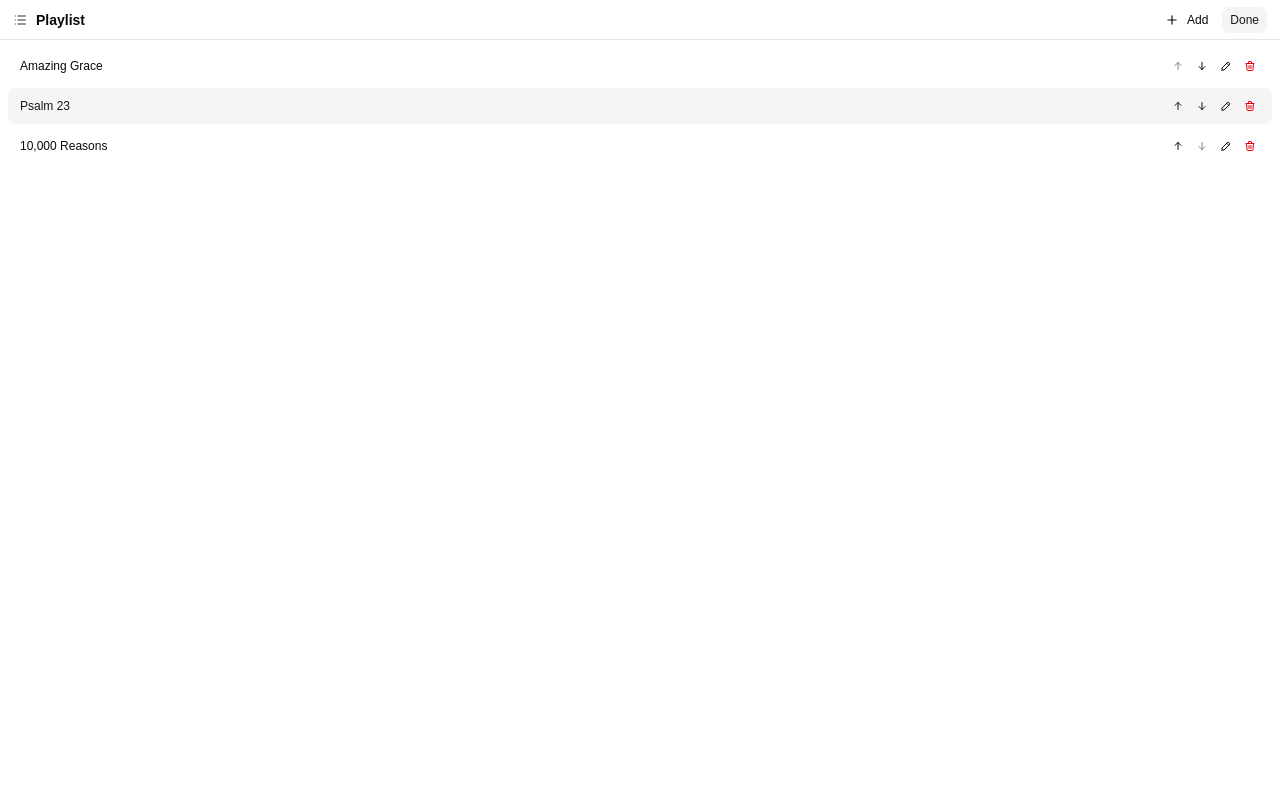
Test case: PlaylistPanel › confirms deletion via keyboard Enter on Delete button and transfers focus to neighbor row
The width and height of the screenshot is (1280, 800).
Item 2 is "Psalm 23"
Click the button named "Delete item" in the row of "Psalm 23": coordinates (1250, 106) [1240,96,1260,116]
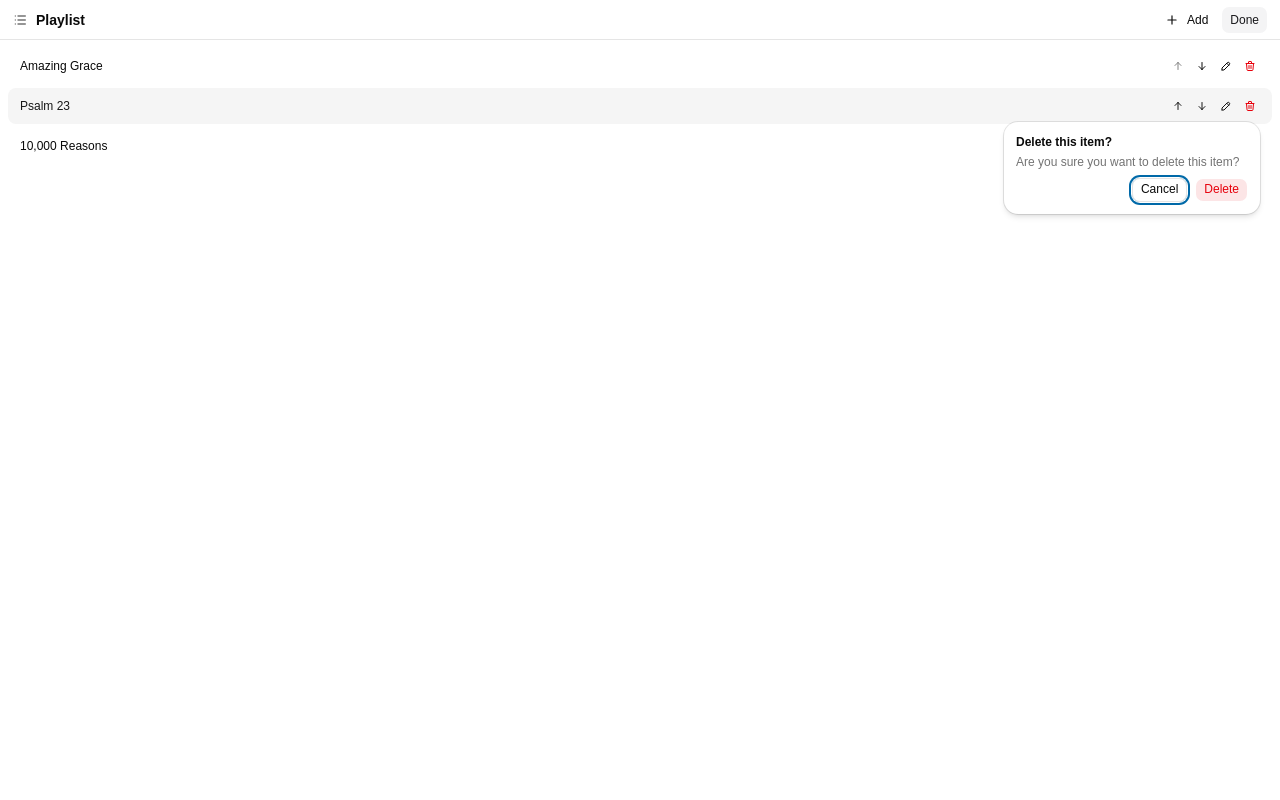
Tab to Delete button and actuate with Enter
Press Tab
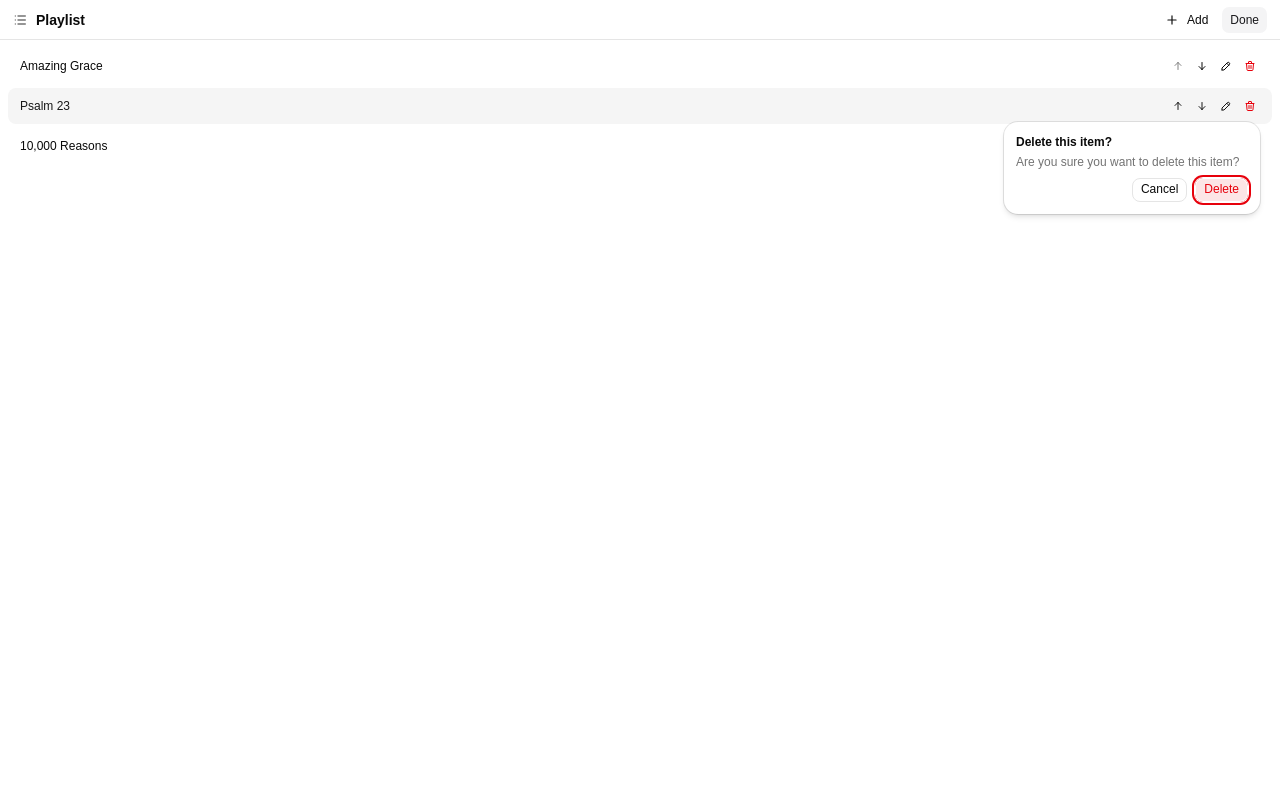
Press Enter
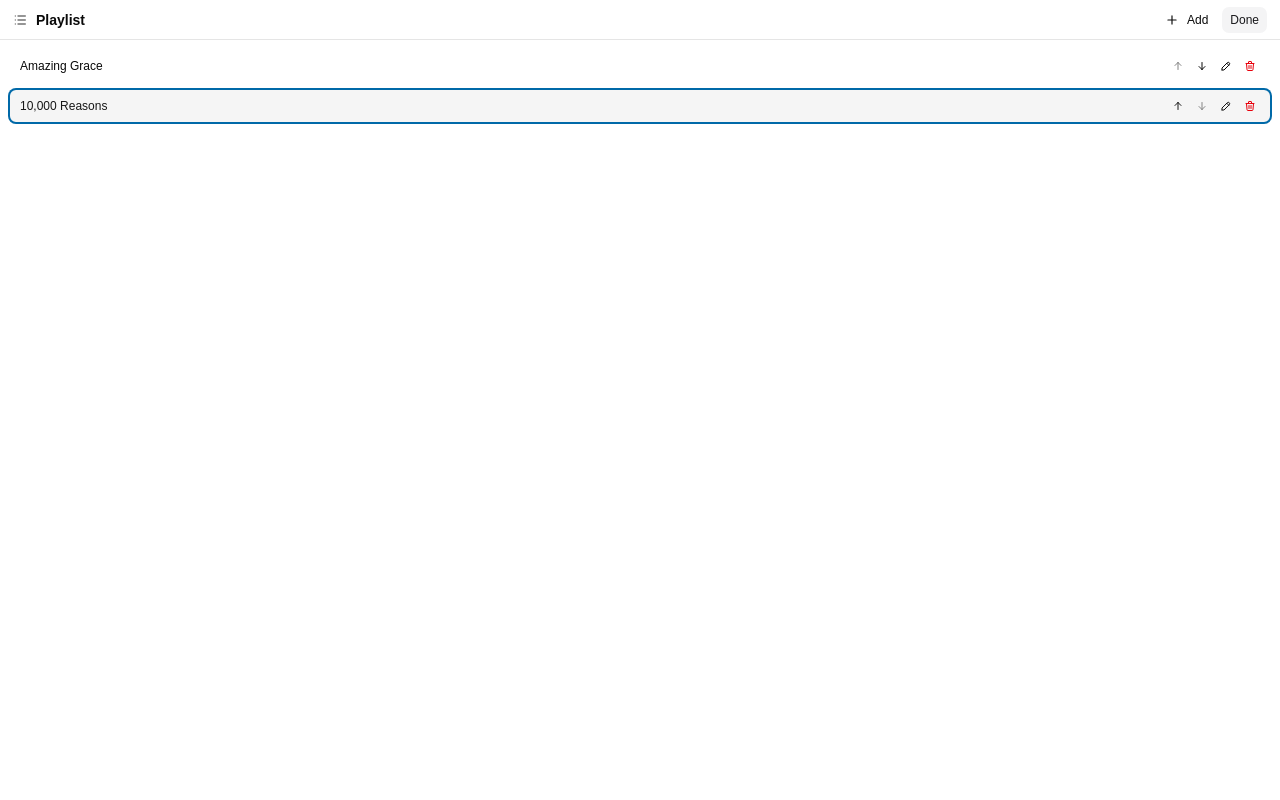
Result: the number of rows is 2 at [20,56,1260,76]; [8,88,1272,124]
Result: the text "Psalm 23" is gone
